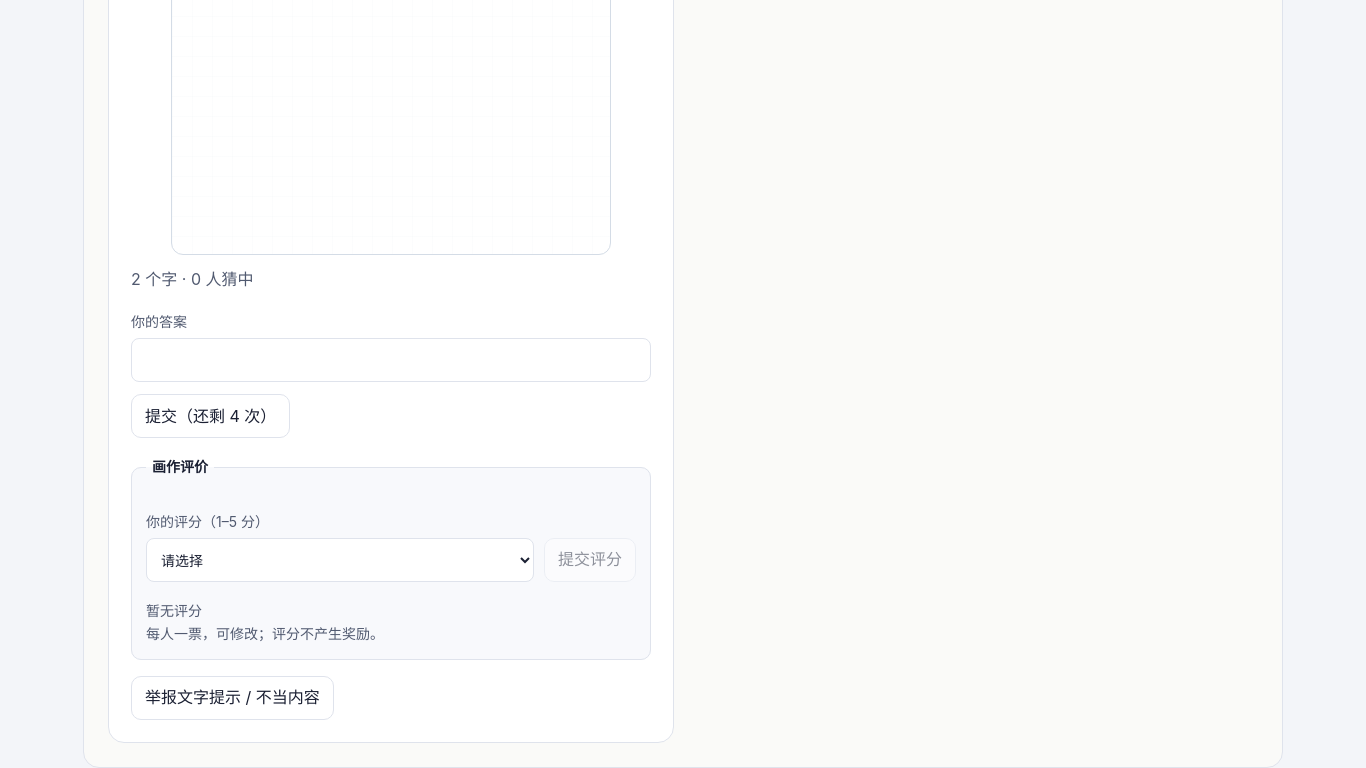
Test case: Office workspace functional controls › retries an unconfirmed drawing vote using its exact original request key and displays only the confirmed average
(page scrolled)
Select "5 分" in the dropdown labelled "你的评分（1–5 分）". click: (340, 560)
box: [146,538,534,582]
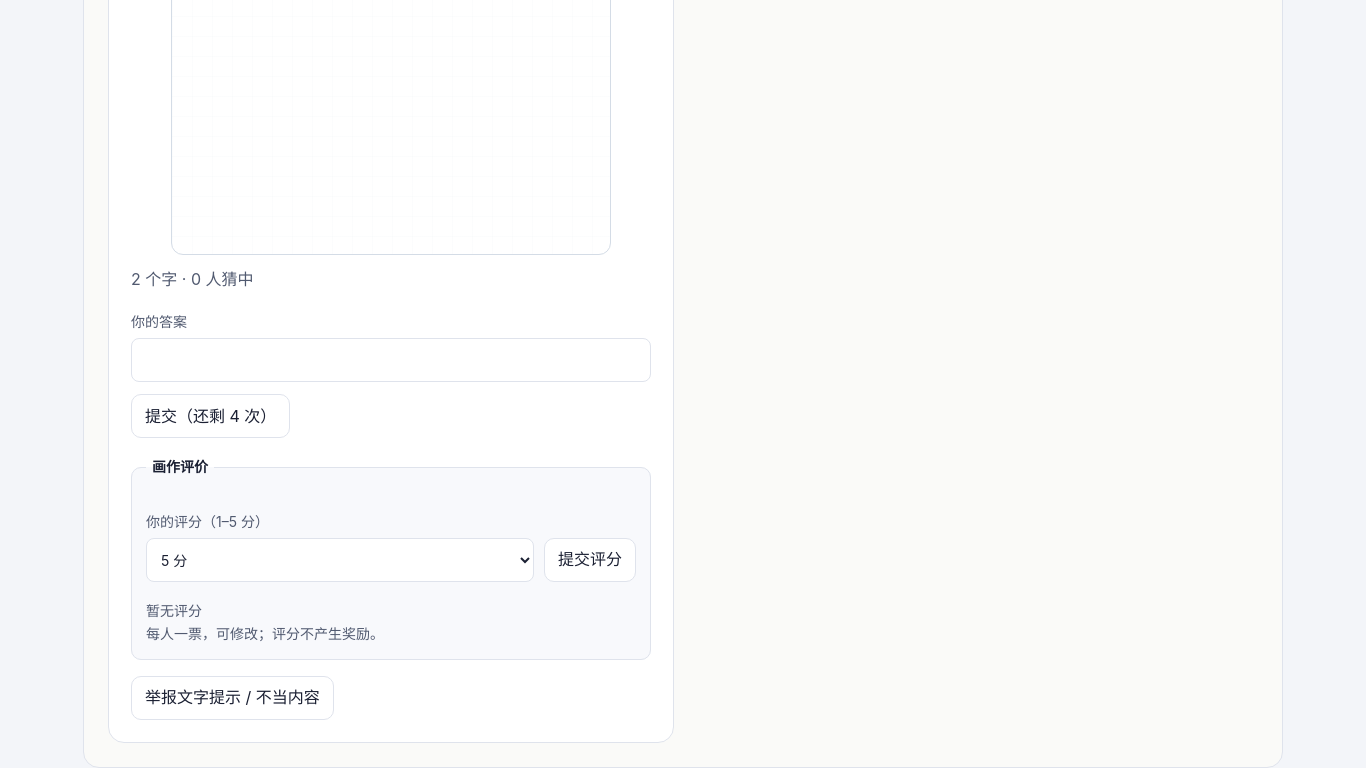
Click the button "提交评分". click: (590, 560)
box: [544,538,636,582]
(page scrolled)
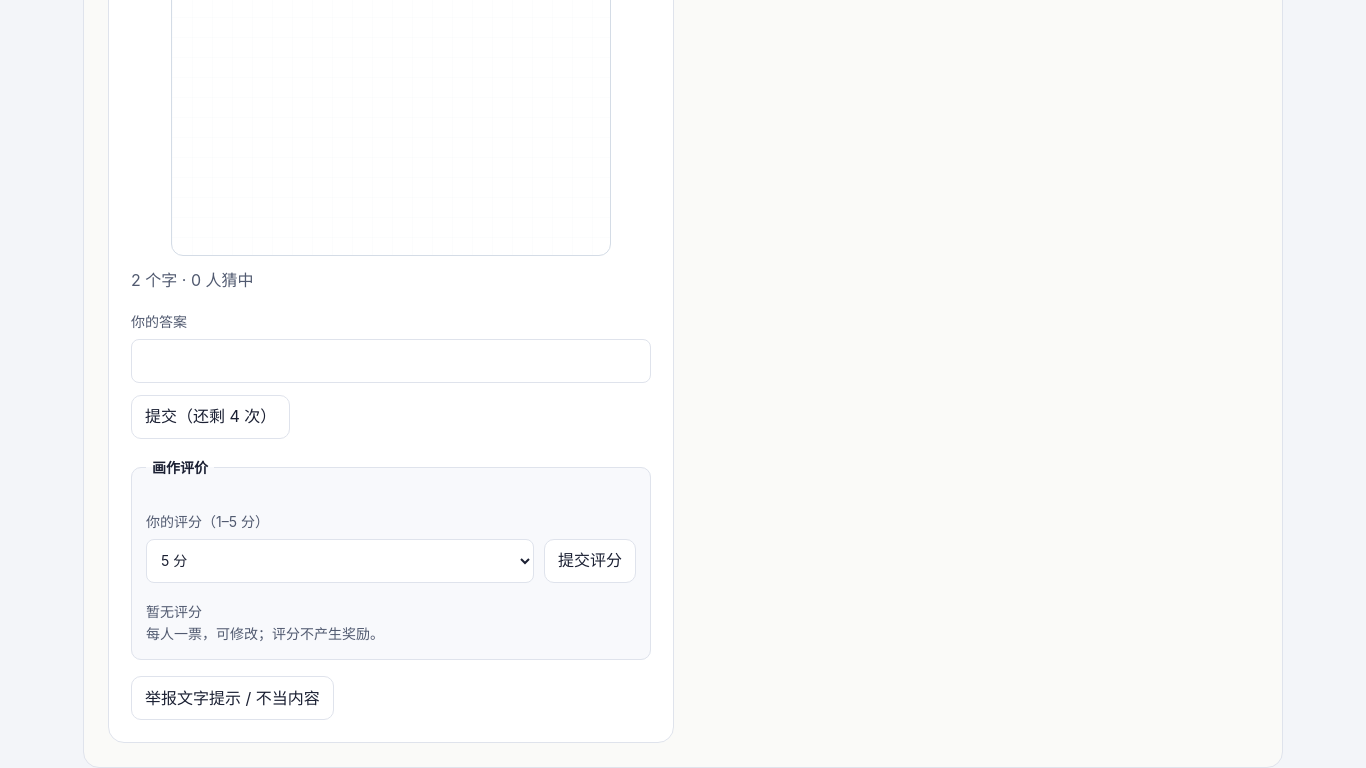
Check: the text "暂无评分" is shown, box [146,602,202,620]
Click the button "提交评分". click: (590, 560)
box: [544,538,636,582]
(page scrolled)
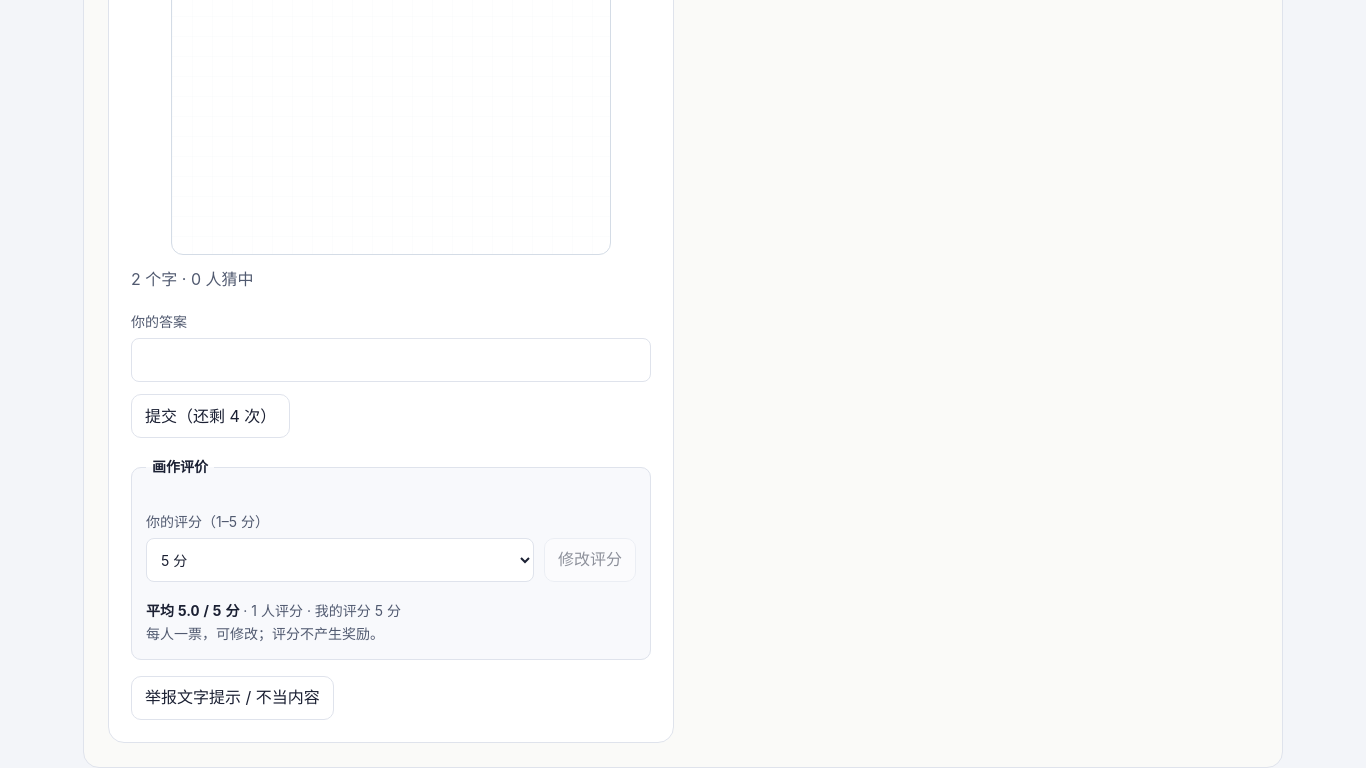
Check: the text "平均 5.0 / 5 分" is shown, box [146,602,239,619]
Check: the text "平均 5.0 / 5 分 · 1 人评分 · 我的评分 5 分" is shown, box [146,602,401,619]
Check: the button "修改评分" is disabled, box [544,538,636,582]
